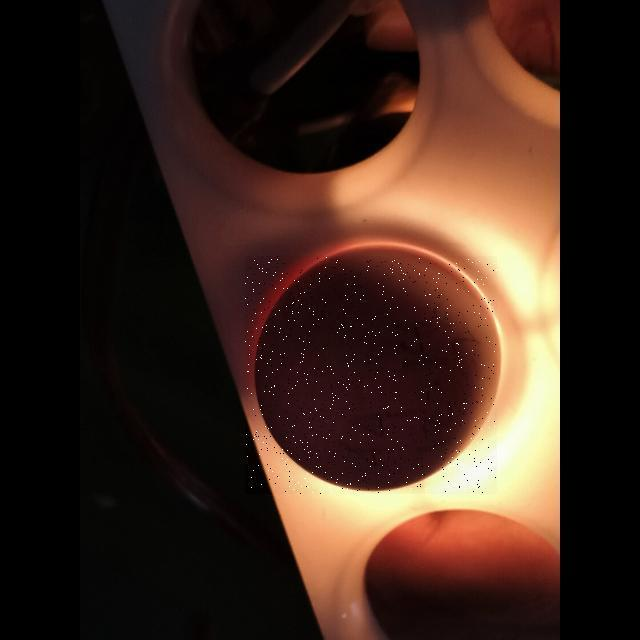A - Good: (248, 260, 501, 493)
